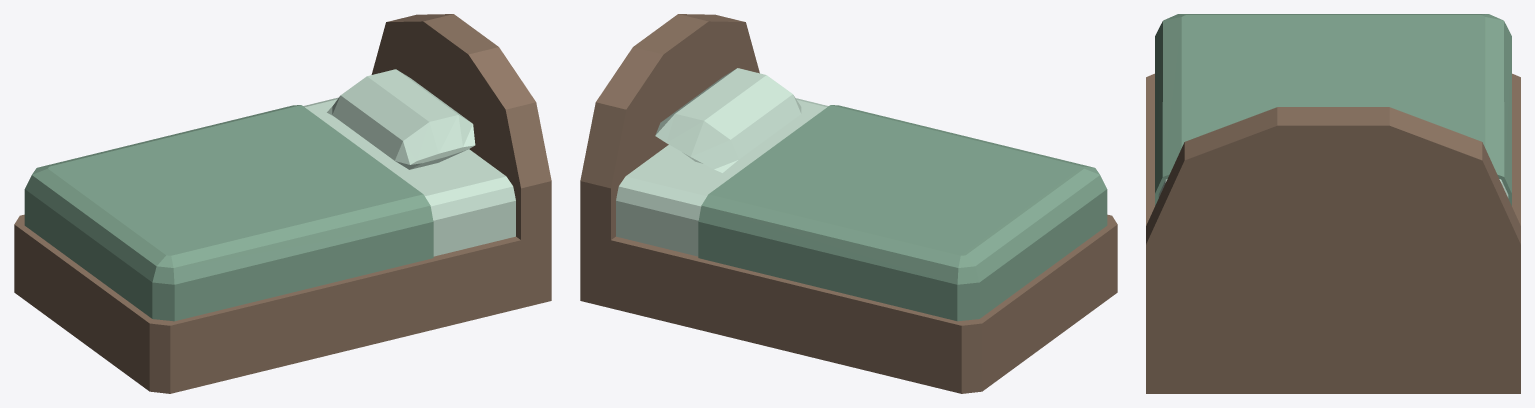
File: Cama.fbx
The picture shows the model from 3 angles, left to right: view 1: azimuth 30°, elevation 25°; view 2: azimuth 150°, elevation 25°; view 3: azimuth 270°, elevation 25°; orthographic projection. The views are drawn at different scales.
Visible parts, largest first — view 1: Cama; view 2: Cama; view 3: Cama.
Boxes of the visible parts, bbox=[...] form: Cama: bbox=[14, 14, 551, 393]; Cama: bbox=[580, 14, 1117, 393]; Cama: bbox=[1146, 14, 1520, 393].
Bounding box in the file's own units: 1.51 × 0.7899 × 1.
